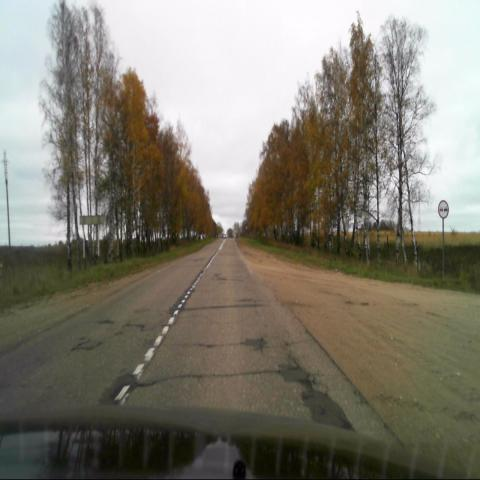3_20: (438, 199, 450, 220)
